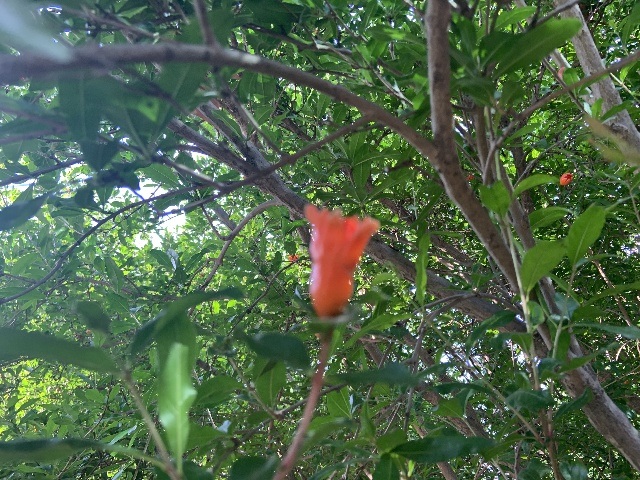bud: (558, 66, 564, 79)
flower: (304, 203, 379, 316), (559, 172, 573, 185), (287, 253, 299, 263), (467, 175, 473, 180)
